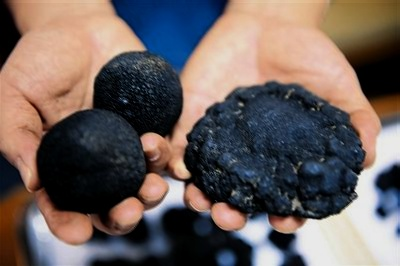halobolite: (181, 78, 373, 221), (41, 105, 150, 222), (86, 46, 181, 141)
